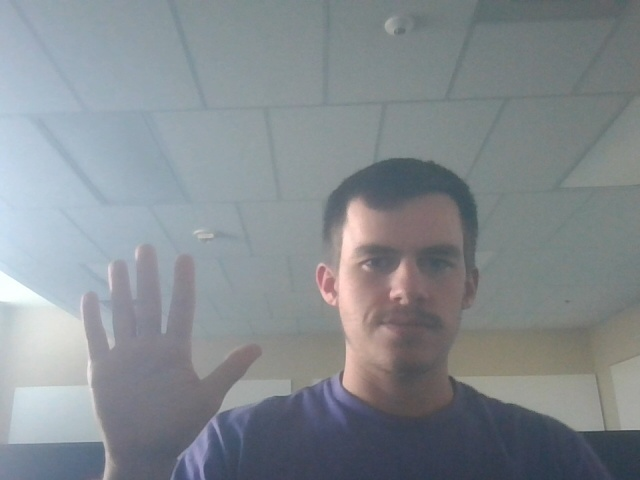hello: (67, 237, 262, 462)
